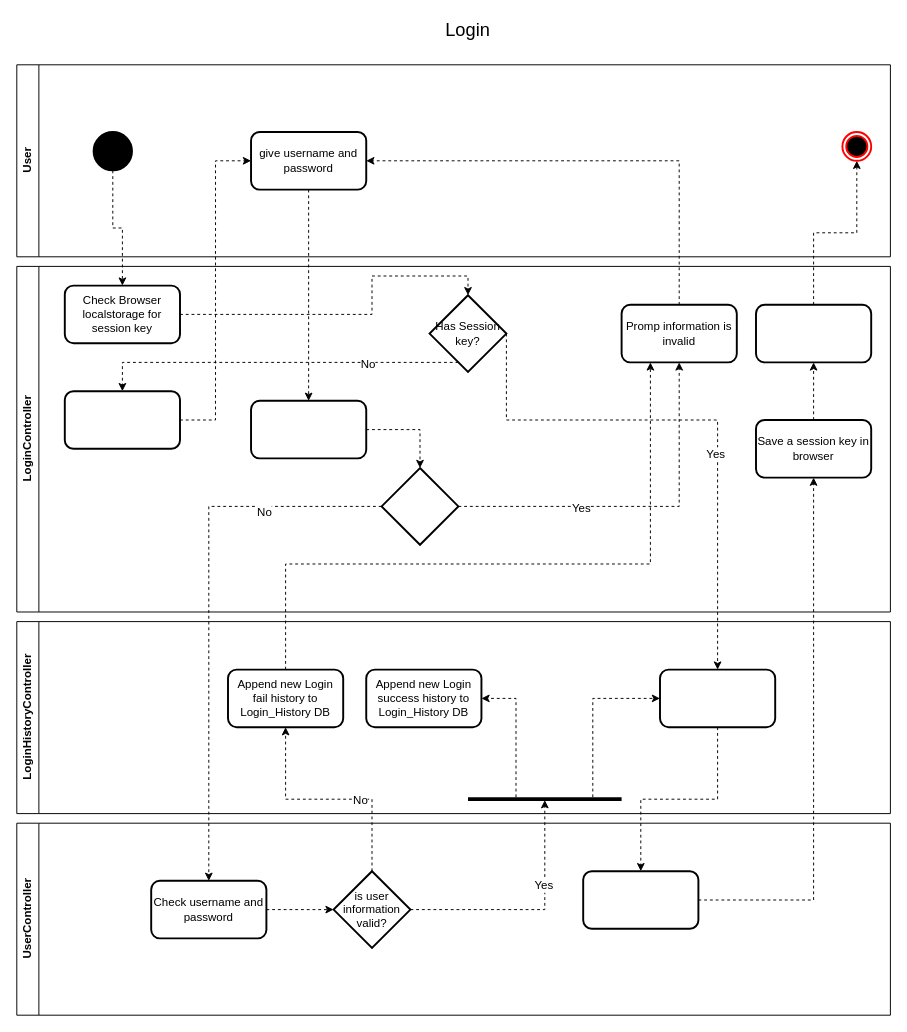
This 907x1032 diagram has some shape labels left out. The shapes that lost their labels are listed below. From the top down, each one's centre as x and y in pixels, then its label:
At point (112, 151): "User choose login".
At point (813, 333): "Promp Login Success".
At point (121, 419): "Display login form".
At point (308, 429): "check null".
At point (419, 506): "Any field null?".
At point (717, 698): "Append new Login session to Session DB".
At point (640, 899): "Get User ID and Role".
